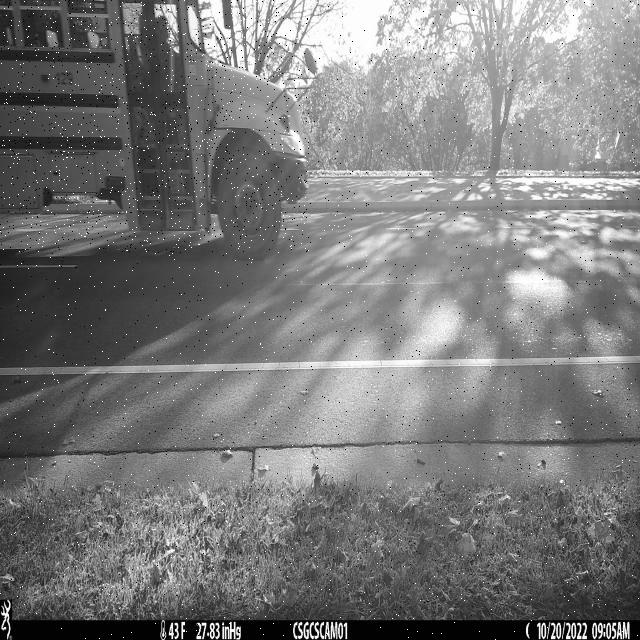Bus: (0, 0, 309, 254)
